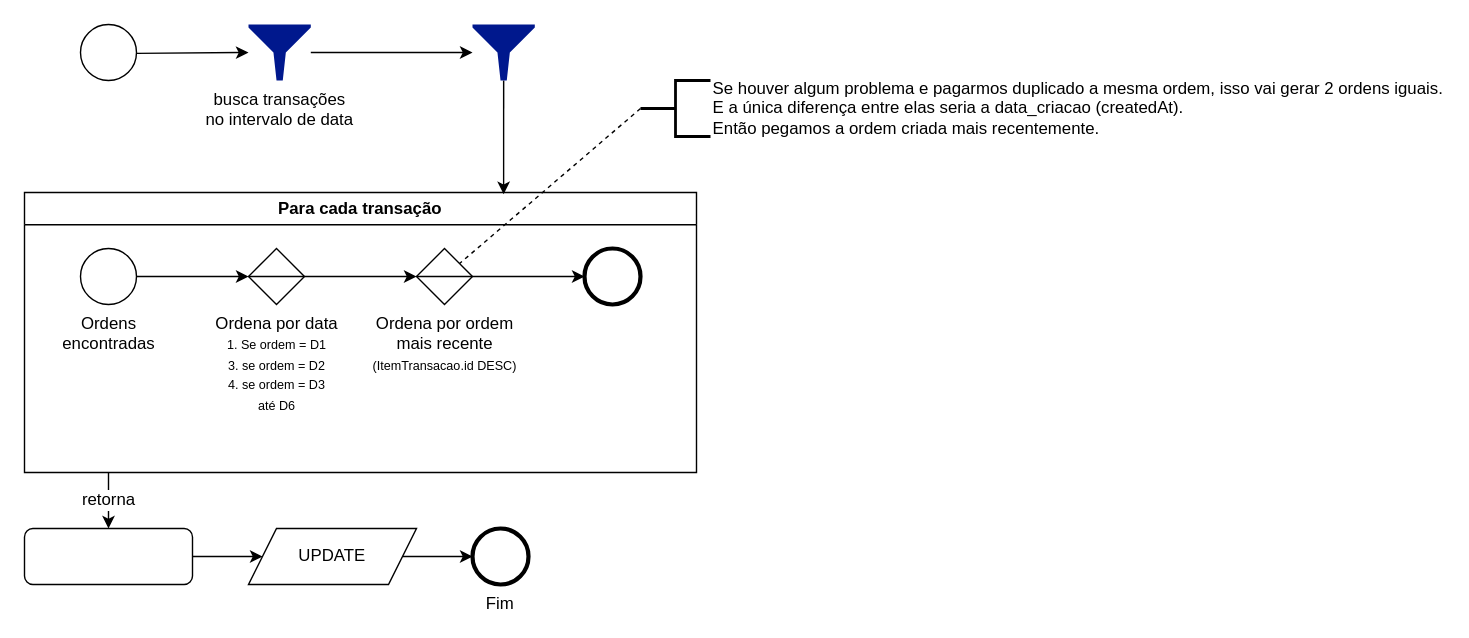
The diagram is 1469 pixels wide and 638 high, and some of its shapes have lost their labels. The shapes that lost their labels are listed below. From the top down, each one's centre as x and y in pixels, then its label:
(107,51): Executa sincronismo
(503,52): ignora ordens com status = 'cancelado' (5)
(611,275): Associa transação com a 1a ordem
(107,555): Transações associadas
